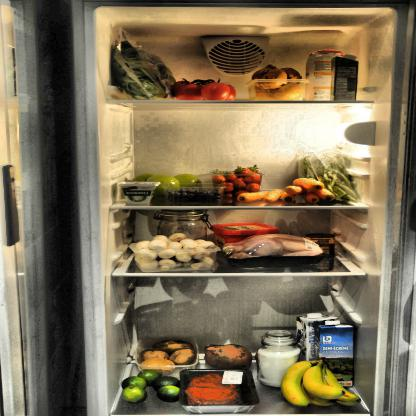apple: (134, 170, 206, 198)
banana: (280, 356, 360, 407)
beef: (184, 371, 253, 410)
blueberries: (164, 186, 226, 205)
butter: (209, 219, 285, 248)
carrot: (279, 177, 337, 205), (236, 187, 279, 204)
chicken: (219, 230, 330, 274)
corn: (309, 233, 343, 256)
green_beans: (288, 142, 358, 206)
heavy_cream: (330, 54, 360, 103)
lime: (119, 369, 182, 404)
milk: (315, 318, 357, 389), (296, 312, 334, 374)
mushrooms: (130, 233, 227, 272)
onion: (247, 65, 306, 100)
potato: (136, 338, 200, 370)
spinach: (103, 32, 181, 102)
strawberries: (210, 165, 262, 196)
sweet_potato: (196, 337, 256, 370)
tomato: (170, 76, 241, 104)
